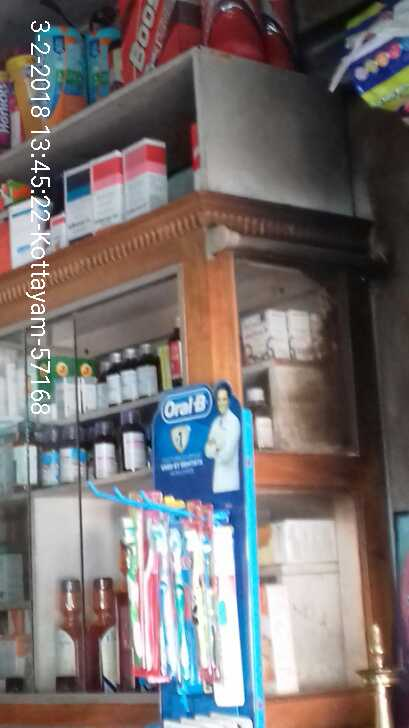oralb: (120, 486, 155, 678)
